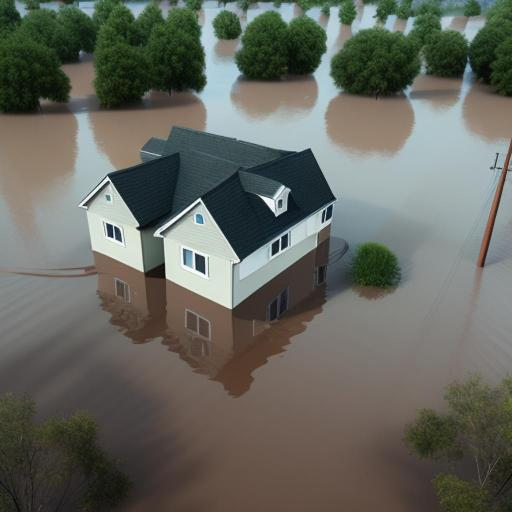flood: (0, 6, 512, 512), (198, 0, 416, 42), (442, 14, 486, 41), (154, 0, 183, 15), (124, 0, 150, 15), (76, 0, 94, 15), (39, 0, 62, 9), (14, 0, 26, 15)
house: (77, 126, 338, 318)
